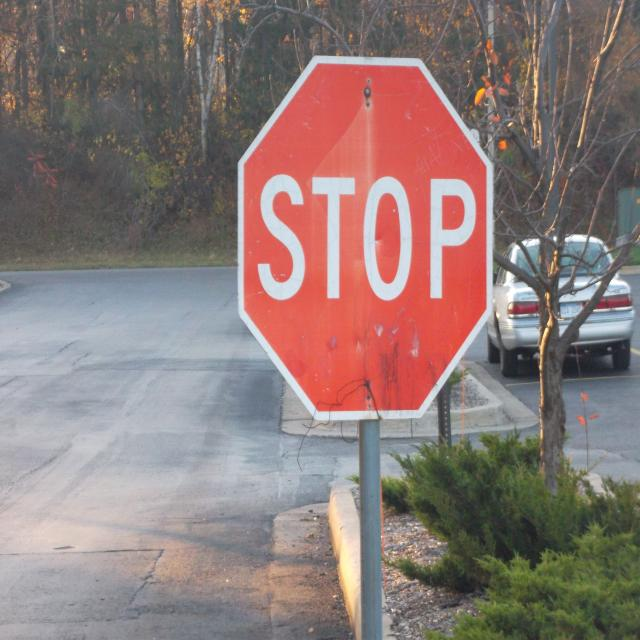stop: (231, 42, 504, 448)
